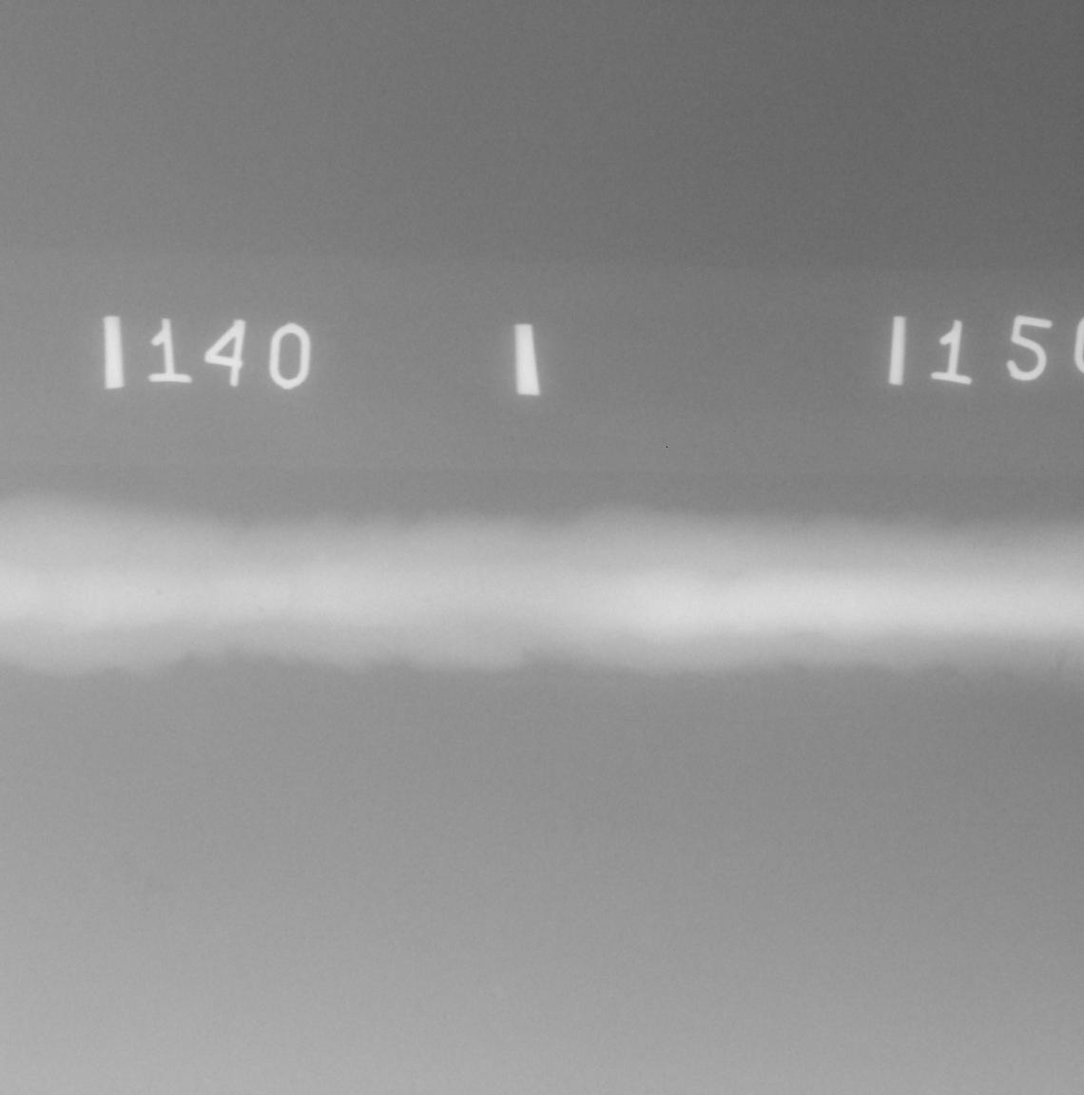Pore/Porosity: (155, 589, 162, 596), (259, 607, 264, 613)
